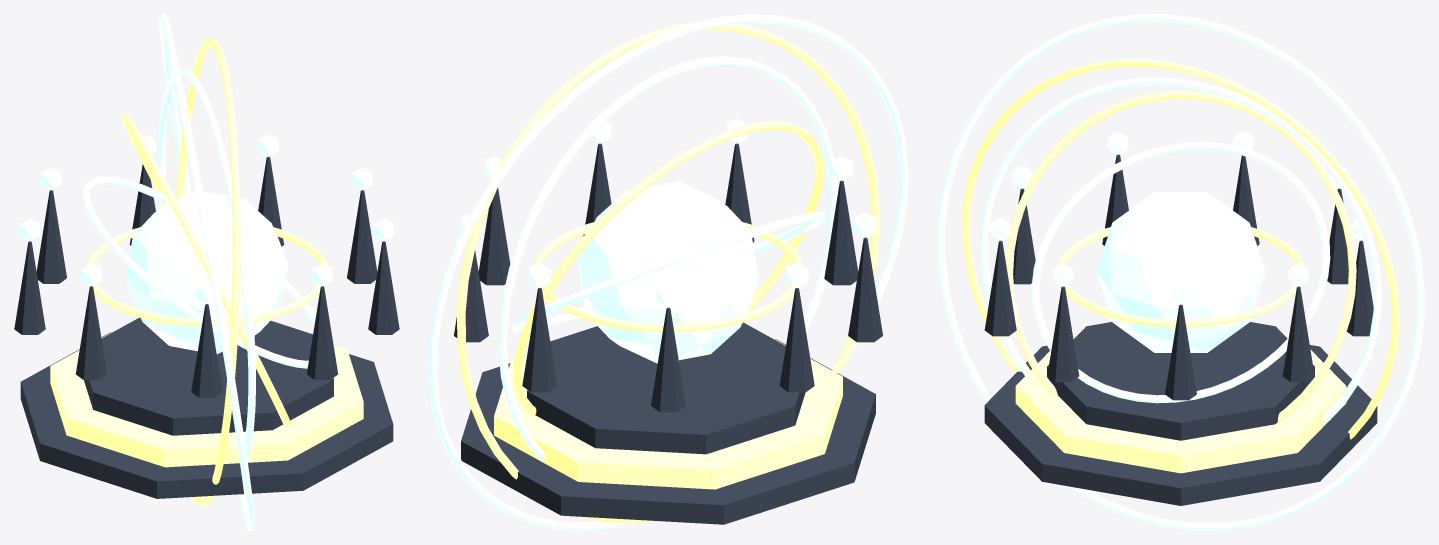
File: gpu-blender-v54.glb
3 views of the same model, side by side, from view 1: azimuth 30°, elevation 25°; view 2: azimuth 150°, elevation 25°; view 3: azimuth 270°, elevation 25° (orthographic). The views are drawn at different scales.
Parts seen in each view (by area): view 1: Cylinder.002, Cylinder, SovereignCore_pod-mockup-forge, Cylinder.001, Torus.005, Torus.004, Torus.003, Torus.001, Torus.002, Torus, Cone.006, Cone.004 (+7 smaller); view 2: Cylinder.002, SovereignCore_pod-mockup-forge, Cylinder, Cylinder.001, Torus.005, Torus.004, Torus.003, Torus.002, Torus.001, Torus, Cone.003, Cone.005 (+7 smaller); view 3: SovereignCore_pod-mockup-forge, Cylinder.002, Cylinder, Cylinder.001, Torus.005, Torus.004, Torus.003, Torus.002, Torus.001, Torus, Cone, Cone.001 (+7 smaller).
Boxes of the visible parts, x1,y1,x2,y2 form: Cylinder.002: [84, 317, 333, 435]; Cylinder: [20, 332, 393, 498]; SovereignCore_pod-mockup-forge: [125, 191, 288, 353]; Cylinder.001: [50, 324, 363, 467]; Torus.005: [159, 14, 254, 530]; Torus.004: [176, 38, 240, 506]; Torus.003: [158, 68, 255, 459]; Torus.001: [82, 176, 316, 368]; Torus.002: [122, 114, 290, 426]; Torus: [85, 227, 327, 326]; Cone.006: [191, 304, 222, 397]; Cone.004: [14, 241, 45, 334]; Cylinder.002: [527, 322, 805, 454]; SovereignCore_pod-mockup-forge: [578, 181, 758, 363]; Cylinder: [461, 339, 875, 524]; Cylinder.001: [494, 330, 842, 489]; Torus.005: [428, 14, 908, 530]; Torus.004: [457, 22, 879, 523]; Torus.003: [498, 56, 838, 461]; Torus.002: [513, 121, 823, 415]; Torus.001: [511, 211, 825, 333]; Torus: [533, 222, 803, 332]; Cone.003: [651, 307, 685, 412]; Cone.005: [848, 237, 882, 342]; SovereignCore_pod-mockup-forge: [1096, 192, 1265, 352]; Cylinder.002: [1047, 322, 1314, 440]; Cylinder: [984, 345, 1377, 505]; Cylinder.001: [1015, 334, 1346, 473]; Torus.005: [937, 14, 1424, 530]; Torus.004: [962, 59, 1399, 439]; Torus.003: [980, 77, 1381, 423]; Torus.002: [1006, 90, 1356, 423]; Torus.001: [1031, 141, 1330, 403]; Torus: [1057, 227, 1304, 327]; Cone: [1165, 304, 1196, 400]; Cone.001: [1282, 286, 1314, 382].
Size of the model in its own units: 4.41 by 5.93 by 5.46.
